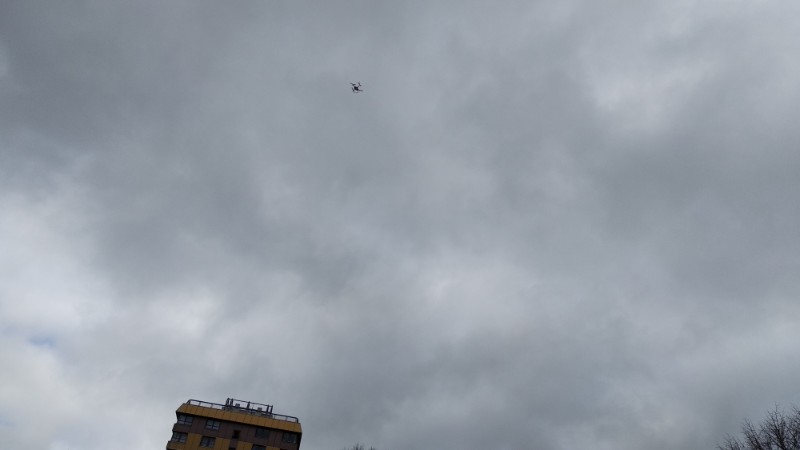drone: (349, 80, 363, 94)
